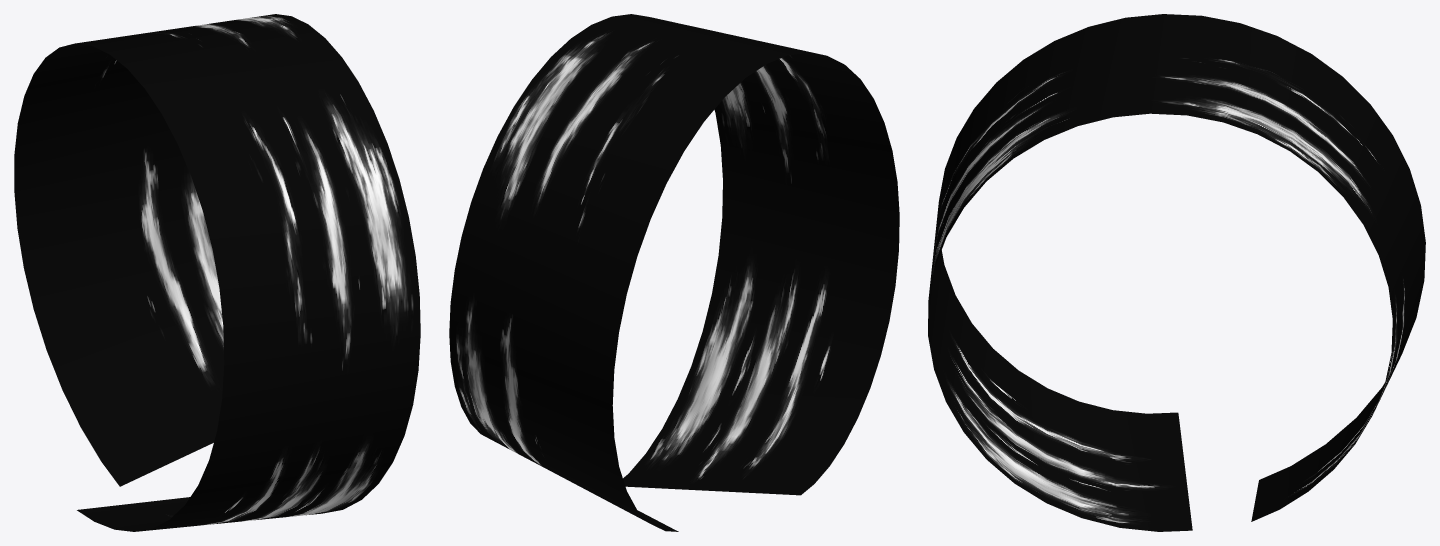
Rendered from 0385_mesh_leixilamu_z03.glb.
3 renders of one model, left to right at view 1: azimuth 30°, elevation 25°; view 2: azimuth 150°, elevation 25°; view 3: azimuth 270°, elevation 25°, orthographic. The views are drawn at different scales.
Size of the model in its own units: 1.33 by 2.19 by 2.2.
Materials: 1 (1 with a texture image).
